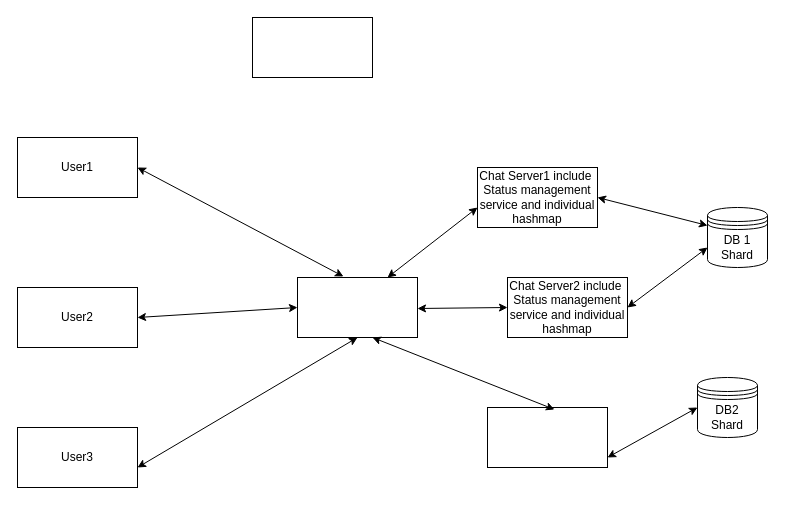
The diagram is 785 pixels wide and 505 high, and some of its shapes have lost their labels. Here are the shapes that lost their labels. From the top down, the centre of each, then its label:
At pixel 312 47: "LLD".
At pixel 357 307: "Load Balancer".
At pixel 547 437: "Chat Server3 include Status management service and individual hashmap".
